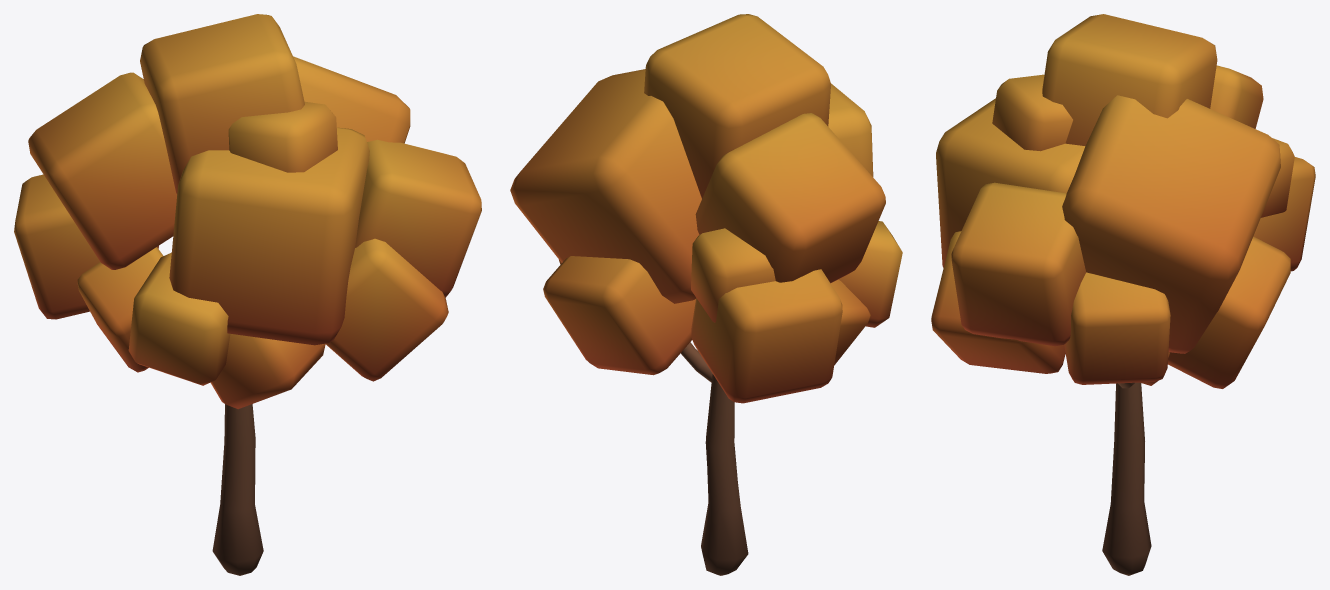
The model's file is tree-fall.glb.
3 views of the same model, side by side, from view 1: azimuth 30°, elevation 25°; view 2: azimuth 150°, elevation 25°; view 3: azimuth 270°, elevation 25° (orthographic).
Visible parts, largest first — view 1: tree.fall; view 2: tree.fall; view 3: tree.fall.
Part boxes in pixels (bbox=[...]): tree.fall: bbox=[14, 14, 481, 575]; tree.fall: bbox=[510, 14, 902, 575]; tree.fall: bbox=[931, 14, 1315, 575].
Size of the model in its own units: 6.05 by 8.79 by 5.68.
